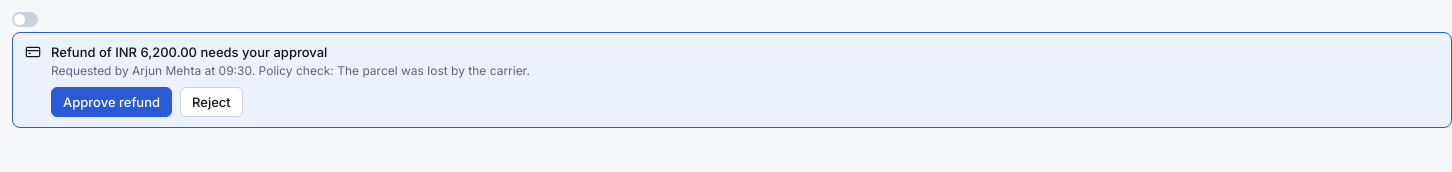
Test: a supervisor's decision that fails or is not theirs to make › shows the server's words when the decision fails
What coordinates should you click on to do the following:
click the button "Approve refund"
I would click on:
 (112, 102)
Its box is [51,87,172,117].
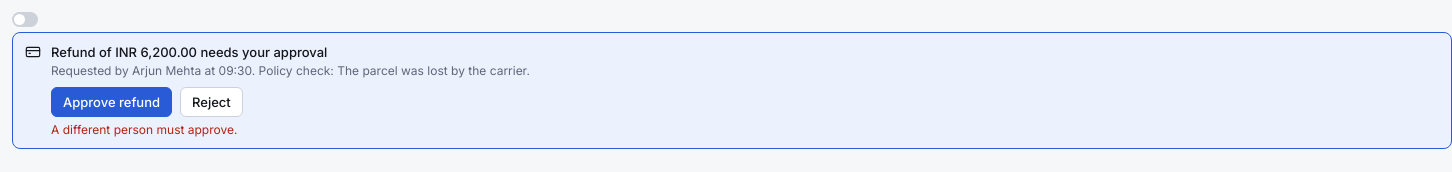
Expected: the message reads "A different person must approve.", [51,122,238,137]
